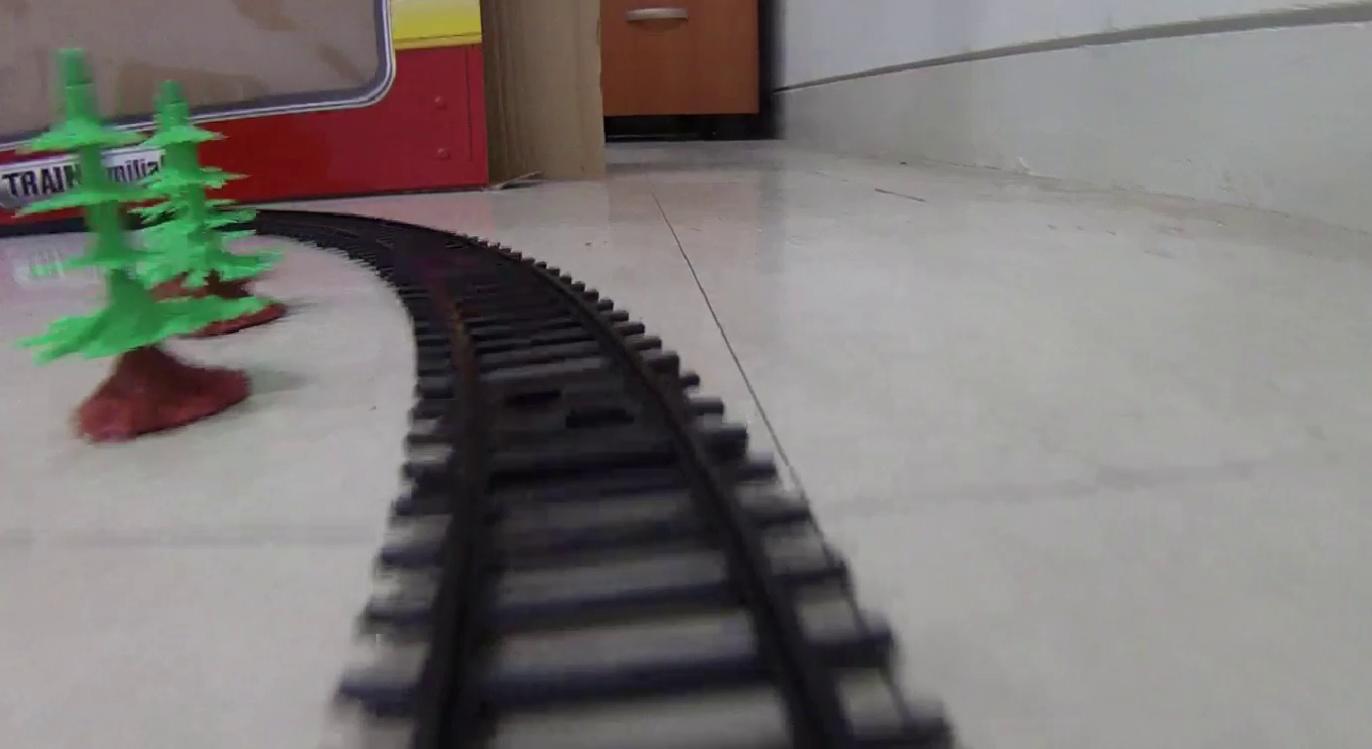tree: (21, 50, 252, 430), (127, 79, 258, 334)
